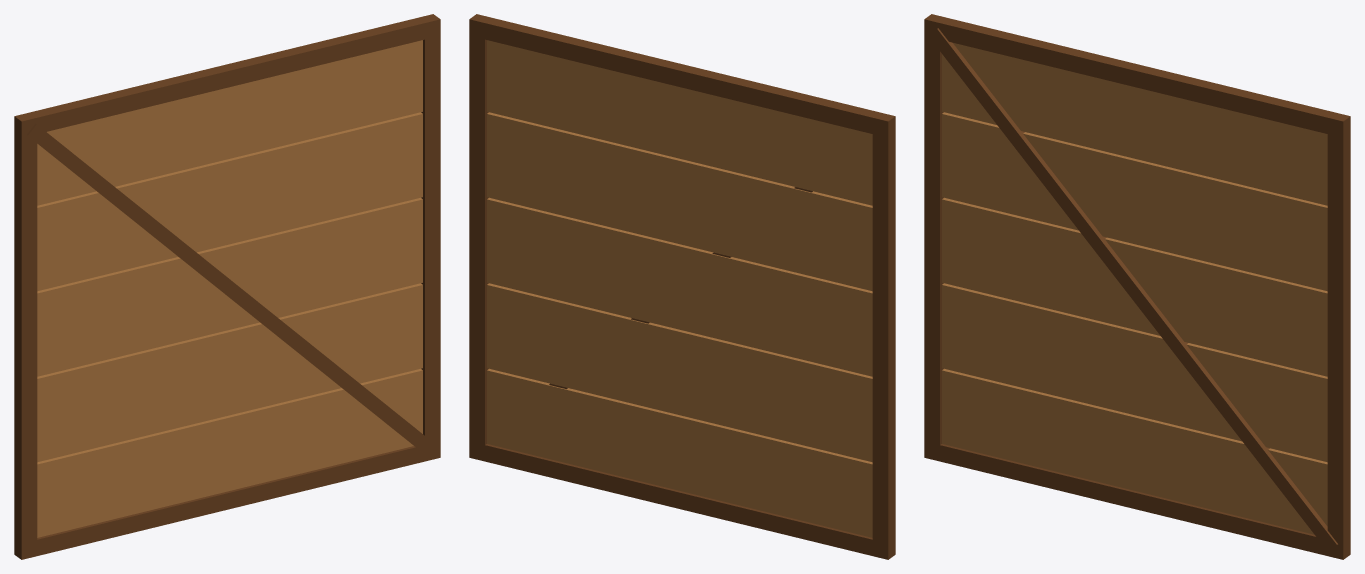
The model's file is BuildWall.glb.
3 views of the same model, side by side, from view 1: azimuth 30°, elevation 25°; view 2: azimuth 150°, elevation 25°; view 3: azimuth 330°, elevation 25° (orthographic).
Parts seen in each view (by area): view 1: Planks, Frame; view 2: Planks, Frame; view 3: Planks, Frame.
Part boxes in pixels (x1=…): Planks: x1=37, y1=40, x2=422, y2=537; Frame: x1=14, y1=14, x2=440, y2=559; Planks: x1=487, y1=40, x2=872, y2=537; Frame: x1=469, y1=14, x2=895, y2=559; Planks: x1=942, y1=43, x2=1327, y2=534; Frame: x1=924, y1=14, x2=1350, y2=559.
Size of the model in its own units: 4 by 4 by 0.14.
